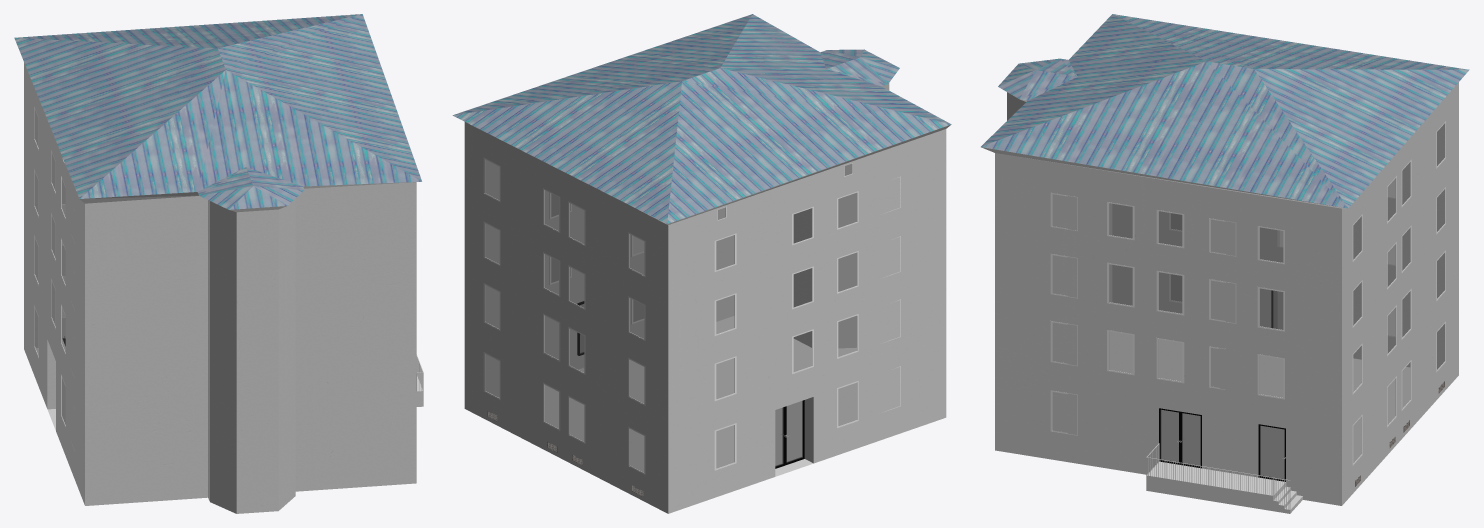
File: DEBY_LOD3_4907518.obj
The picture shows the model from 3 angles, left to right: view 1: azimuth 30°, elevation 25°; view 2: azimuth 150°, elevation 25°; view 3: azimuth 270°, elevation 25°; orthographic projection. The views are drawn at different scales.
Parts seen in each view (by area): view 1: Mesh106 Group2 Model; view 2: Mesh106 Group2 Model, Mesh50 Group50 Group2 Model, Mesh25 Group27 Group2 Model, Mesh19 Group21 Group2 Model, Mesh38 Group40 Group2 Model, Mesh37 Group39 Group2 Model, Mesh39 Group41 Group2 Model, Mesh12 Group14 Group2 Model, Mesh18 Group20 Group2 Model, Mesh45 Group47 Group2 Model, Mesh51 Group51 Group2 Model, Mesh23 Group25 Group2 Model (+18 smaller); view 3: Mesh106 Group2 Model, Mesh1 Group3 Group2 Model, Mesh4 Group6 Group2 Model, Mesh22 Group24 Group2 Model, Mesh47 Group49 Group2 Model, Mesh48 Group49 Group2 Model, Mesh2 Group4 Group2 Model, Mesh9 Group11 Group2 Model, Mesh40 Group42 Group2 Model, Mesh3 Group5 Group2 Model, Mesh43 Group45 Group2 Model, Mesh26 Group28 Group2 Model (+3 smaller).
Boxes of the visible parts, x1=… form: Mesh106 Group2 Model: x1=14, y1=14, x2=423, y2=513; Mesh106 Group2 Model: x1=452, y1=14, x2=951, y2=513; Mesh50 Group50 Group2 Model: x1=785, y1=400, x2=804, y2=465; Mesh25 Group27 Group2 Model: x1=714, y1=423, x2=736, y2=470; Mesh19 Group21 Group2 Model: x1=837, y1=381, x2=858, y2=428; Mesh38 Group40 Group2 Model: x1=714, y1=356, x2=736, y2=401; Mesh37 Group39 Group2 Model: x1=792, y1=329, x2=813, y2=374; Mesh39 Group41 Group2 Model: x1=837, y1=314, x2=858, y2=358; Mesh12 Group14 Group2 Model: x1=714, y1=293, x2=736, y2=335; Mesh18 Group20 Group2 Model: x1=792, y1=266, x2=813, y2=309; Mesh45 Group47 Group2 Model: x1=837, y1=251, x2=858, y2=293; Mesh51 Group51 Group2 Model: x1=714, y1=233, x2=736, y2=271; Mesh23 Group25 Group2 Model: x1=568, y1=326, x2=585, y2=374; Mesh106 Group2 Model: x1=981, y1=14, x2=1469, y2=513; Mesh1 Group3 Group2 Model: x1=1258, y1=424, x2=1285, y2=481; Mesh4 Group6 Group2 Model: x1=1156, y1=338, x2=1184, y2=383; Mesh22 Group24 Group2 Model: x1=1156, y1=270, x2=1184, y2=315; Mesh47 Group49 Group2 Model: x1=1159, y1=408, x2=1180, y2=464; Mesh48 Group49 Group2 Model: x1=1180, y1=411, x2=1201, y2=468; Mesh2 Group4 Group2 Model: x1=1107, y1=330, x2=1134, y2=375; Mesh9 Group11 Group2 Model: x1=1257, y1=354, x2=1284, y2=399; Mesh40 Group42 Group2 Model: x1=1107, y1=262, x2=1134, y2=307; Mesh3 Group5 Group2 Model: x1=1257, y1=287, x2=1284, y2=331; Mesh43 Group45 Group2 Model: x1=1156, y1=210, x2=1184, y2=248; Mesh26 Group28 Group2 Model: x1=1107, y1=202, x2=1134, y2=240.
Size of the model in its own units: 20.88 by 17.29 by 21.96.
